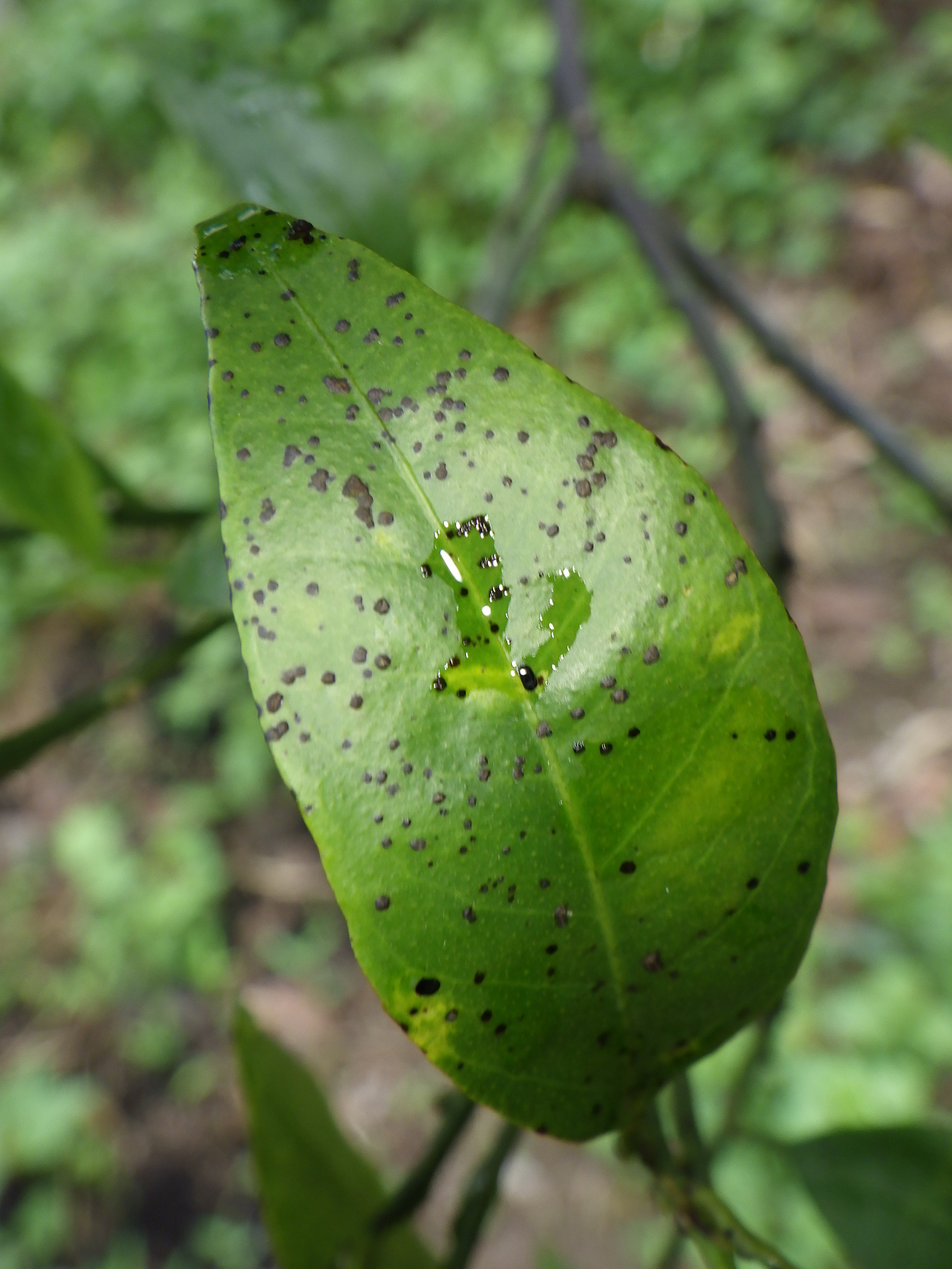Oily_Spot: (196, 204, 836, 1139)
